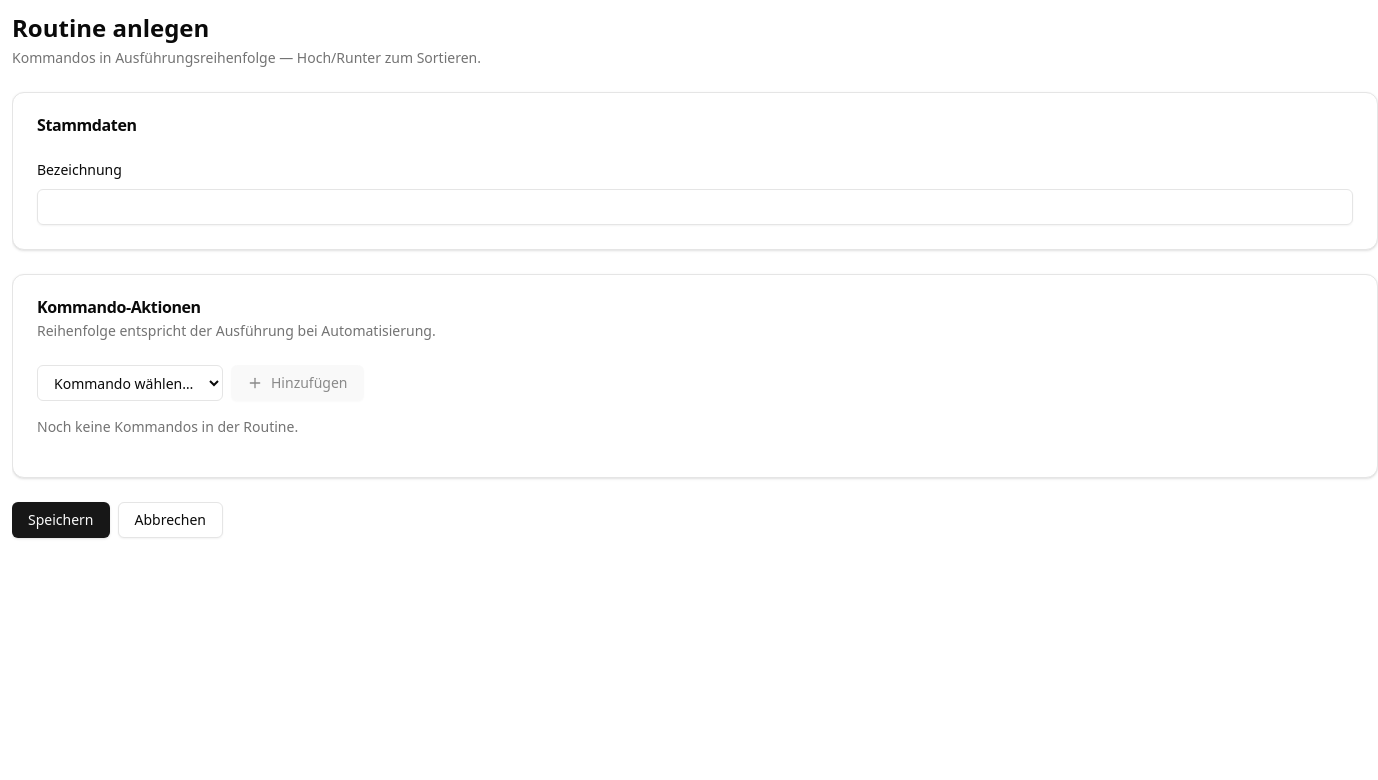
RoutineEditorPage › rendert Hoch/Runter-Steuerung nach Hinzufügen
Select "Kommando A" in the dropdown named "Kommando auswählen": (130, 383) [37,365,223,401]
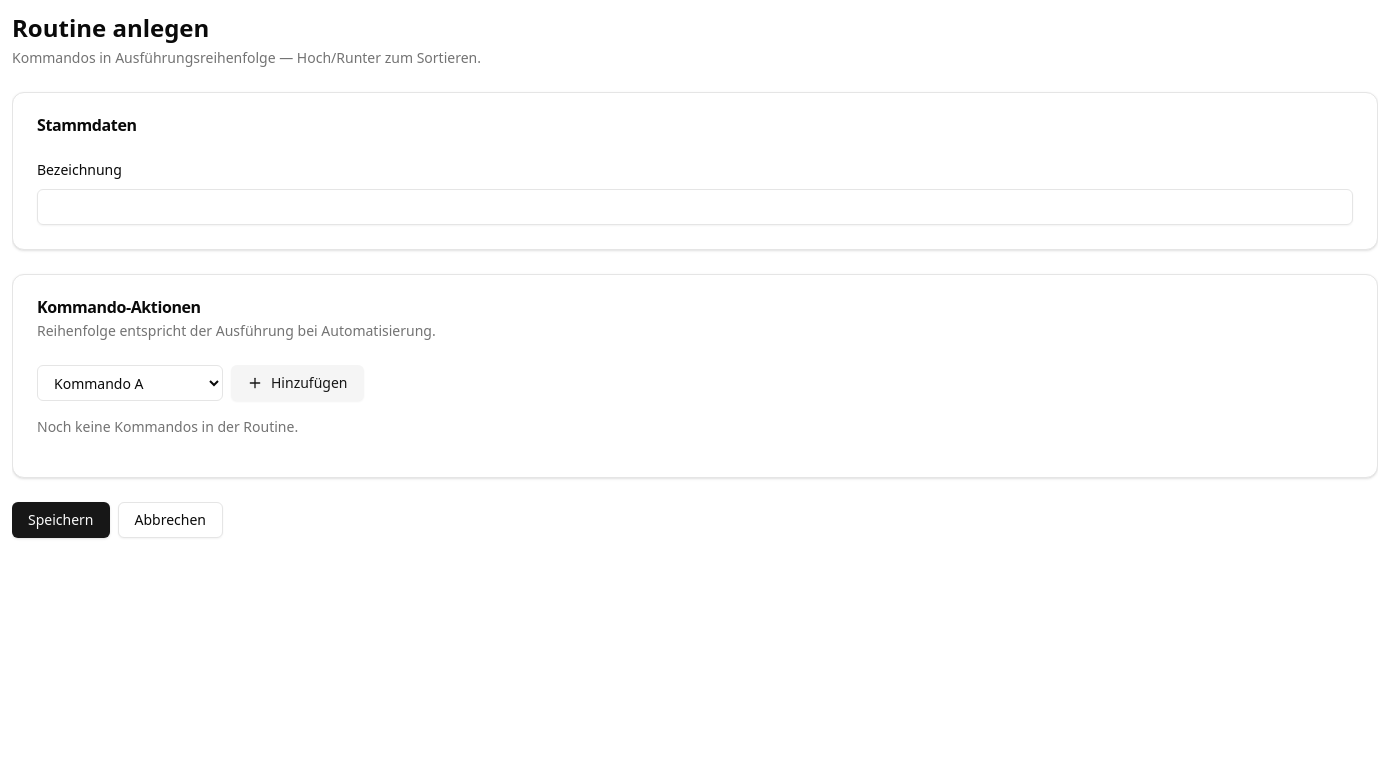
Click the button "Hinzufügen": (297, 383) [231,365,364,401]
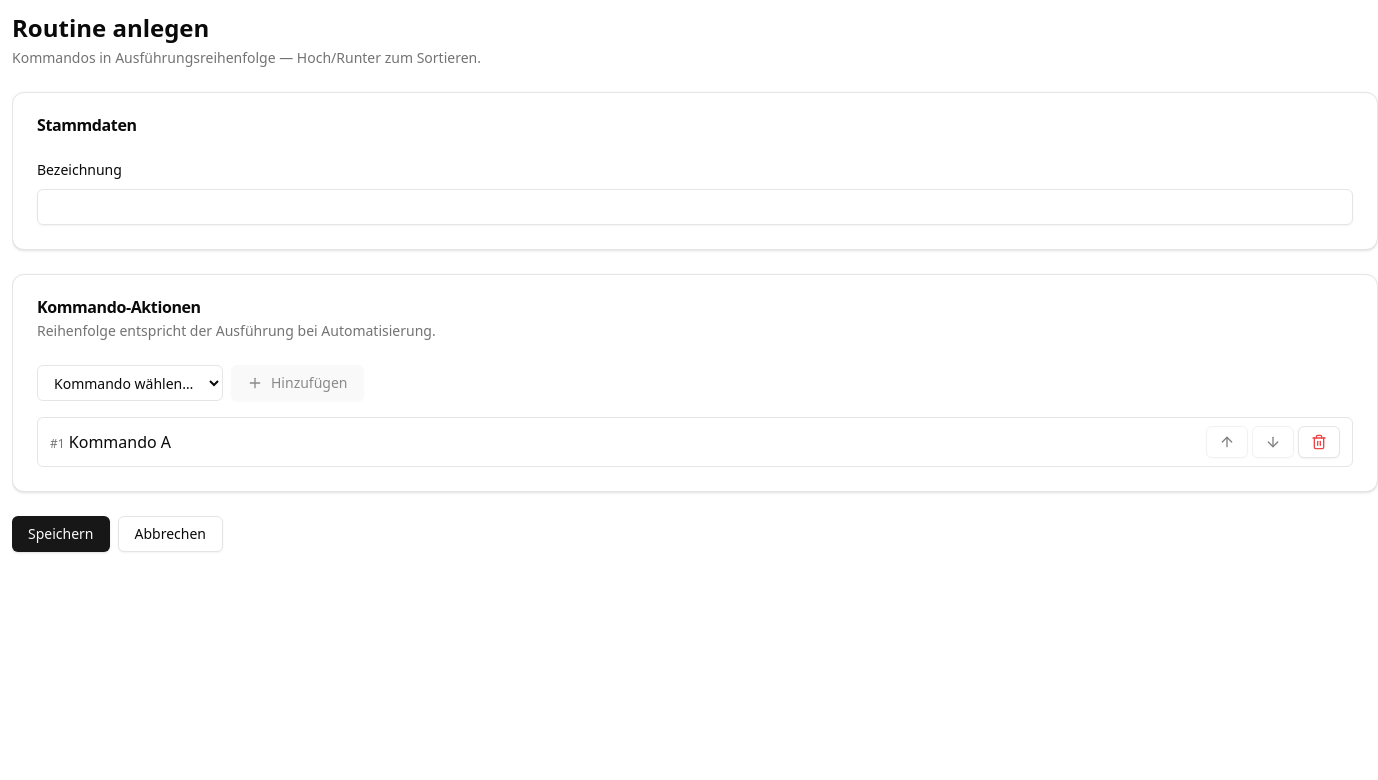
Check: the button named "Nach oben" is shown, box [1206,426,1248,458]
Check: the button named "Nach unten" is shown, box [1252,426,1294,458]
